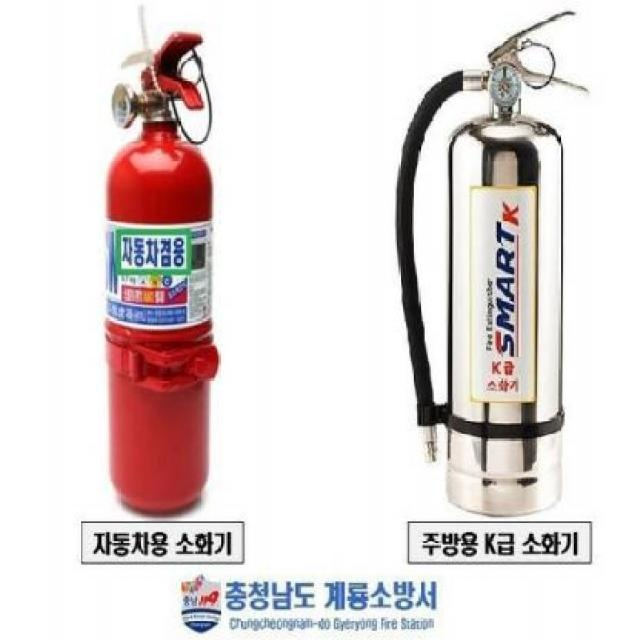fire extinguisher: (394, 10, 589, 518), (104, 6, 219, 512)
